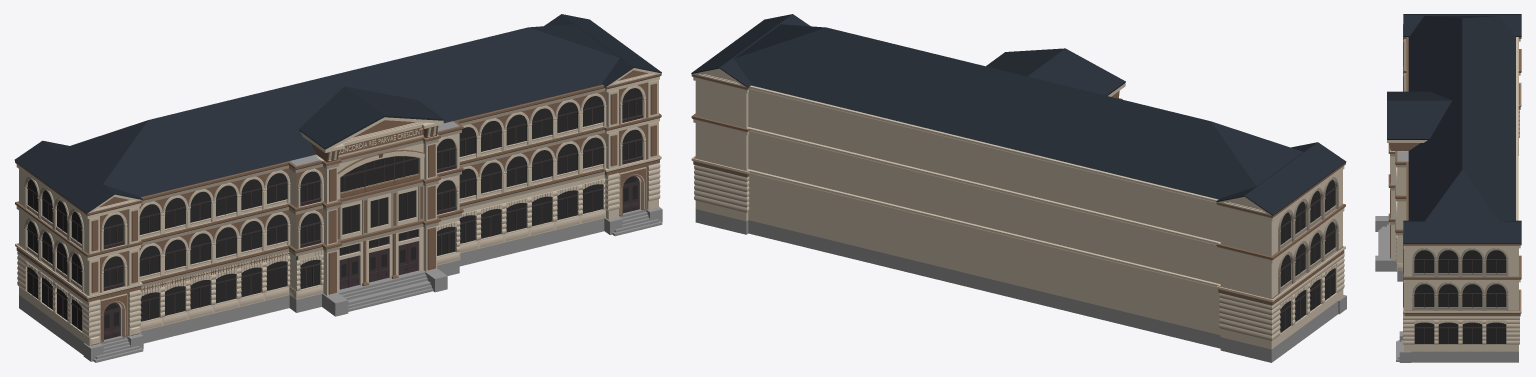
The picture shows the model from 3 angles, left to right: view 1: azimuth 30°, elevation 25°; view 2: azimuth 150°, elevation 25°; view 3: azimuth 270°, elevation 25°; orthographic projection. The views are drawn at different scales.
Parts seen in each view (by area): view 1: Ateneum Museum; view 2: Ateneum Museum; view 3: Ateneum Museum.
Boxes of the visible parts, x1,y1,x2,y2 form: Ateneum Museum: [14, 14, 662, 362]; Ateneum Museum: [691, 14, 1346, 362]; Ateneum Museum: [1375, 14, 1521, 362].
Size of the model in its own units: 54.51 by 17.24 by 14.68.
Materials: 1 (1 with a texture image).
